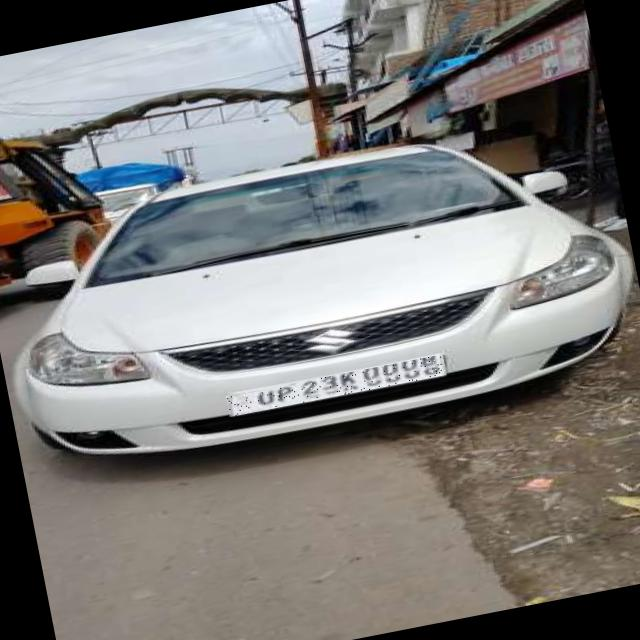Plate: (227, 355, 448, 418)
